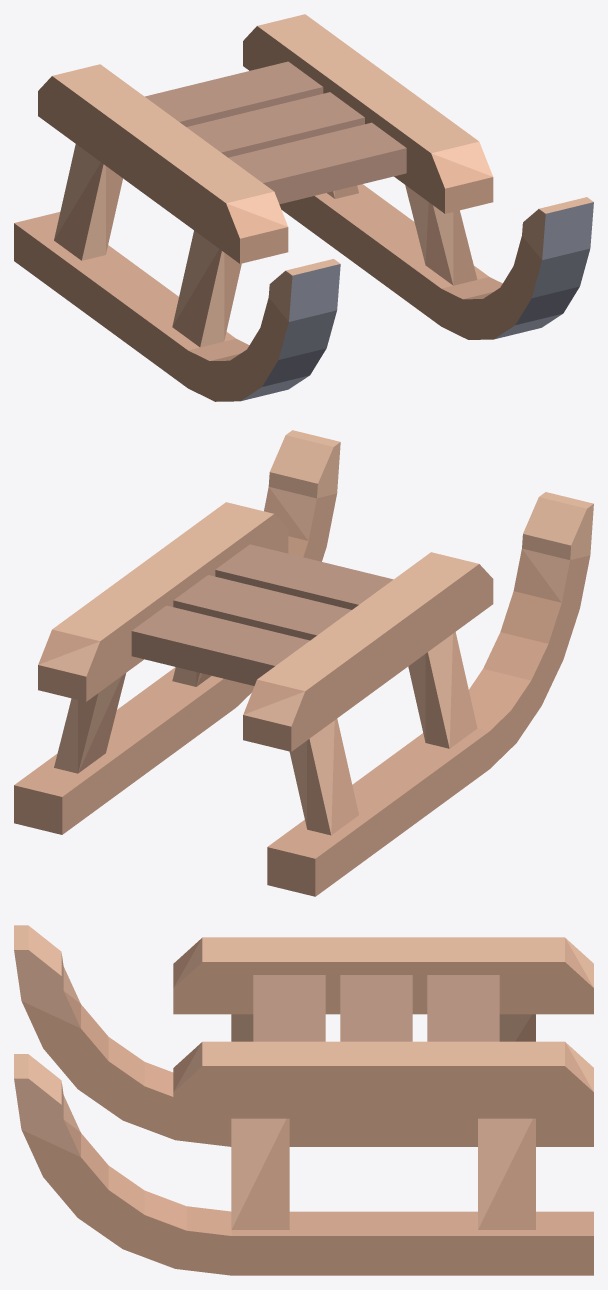
Rendered from acc_sled.glb.
3 views of the same model, one above another, from view 1: azimuth 30°, elevation 25°; view 2: azimuth 150°, elevation 25°; view 3: azimuth 270°, elevation 25° (orthographic). The views are drawn at different scales.
Parts seen in each view (by area): view 1: sled; view 2: sled; view 3: sled.
Boxes of the visible parts, left/top/right/bottom form: sled: left=14, top=14, right=593, bottom=401; sled: left=14, top=430, right=593, bottom=896; sled: left=14, top=925, right=593, bottom=1275.
Bounding box in the file's own units: 0.7188 × 0.4316 × 1.15.
